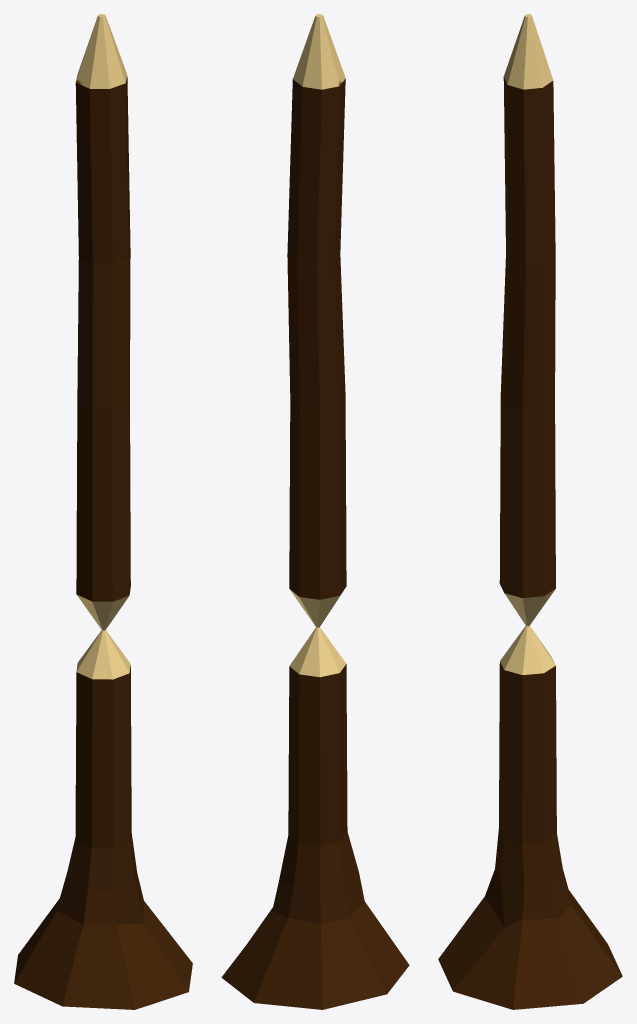
Rendered from dead-tree.fbx.
The picture shows the model from 3 angles, left to right: view 1: azimuth 30°, elevation 25°; view 2: azimuth 150°, elevation 25°; view 3: azimuth 270°, elevation 25°; orthographic projection.
Parts seen in each view (by area): view 1: Пень, Колода; view 2: Колода, Пень; view 3: Пень, Колода.
Part boxes in pixels (left/top/right/bottom): Пень: left=14, top=630, right=192, bottom=1009; Колода: left=75, top=14, right=130, bottom=630; Колода: left=287, top=14, right=346, bottom=627; Пень: left=221, top=627, right=409, bottom=1009; Пень: left=438, top=625, right=622, bottom=1009; Колода: left=499, top=14, right=555, bottom=626.
Bounding box in the file's own units: 0.4698 × 2.68 × 0.47.
